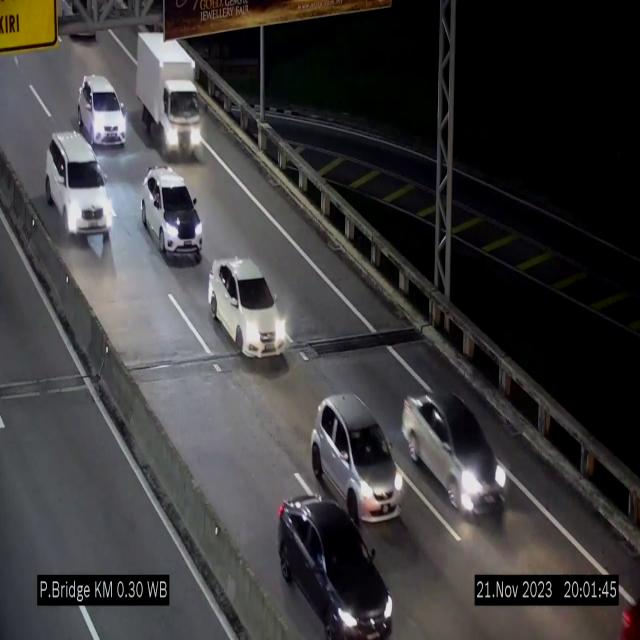Car: (278, 497, 392, 638), (402, 391, 508, 513), (312, 394, 402, 521), (208, 258, 288, 357), (46, 132, 110, 242), (141, 168, 202, 261), (78, 75, 128, 145)
Truck: (136, 29, 203, 159)
